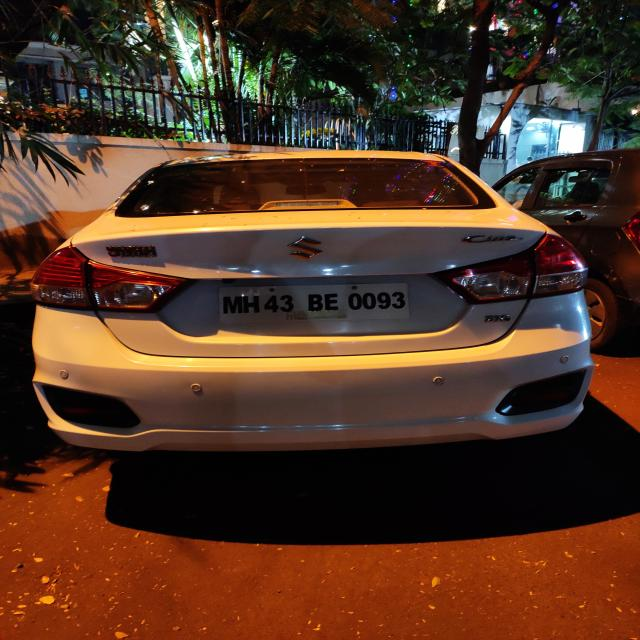Number-Plate: (214, 281, 420, 327)
